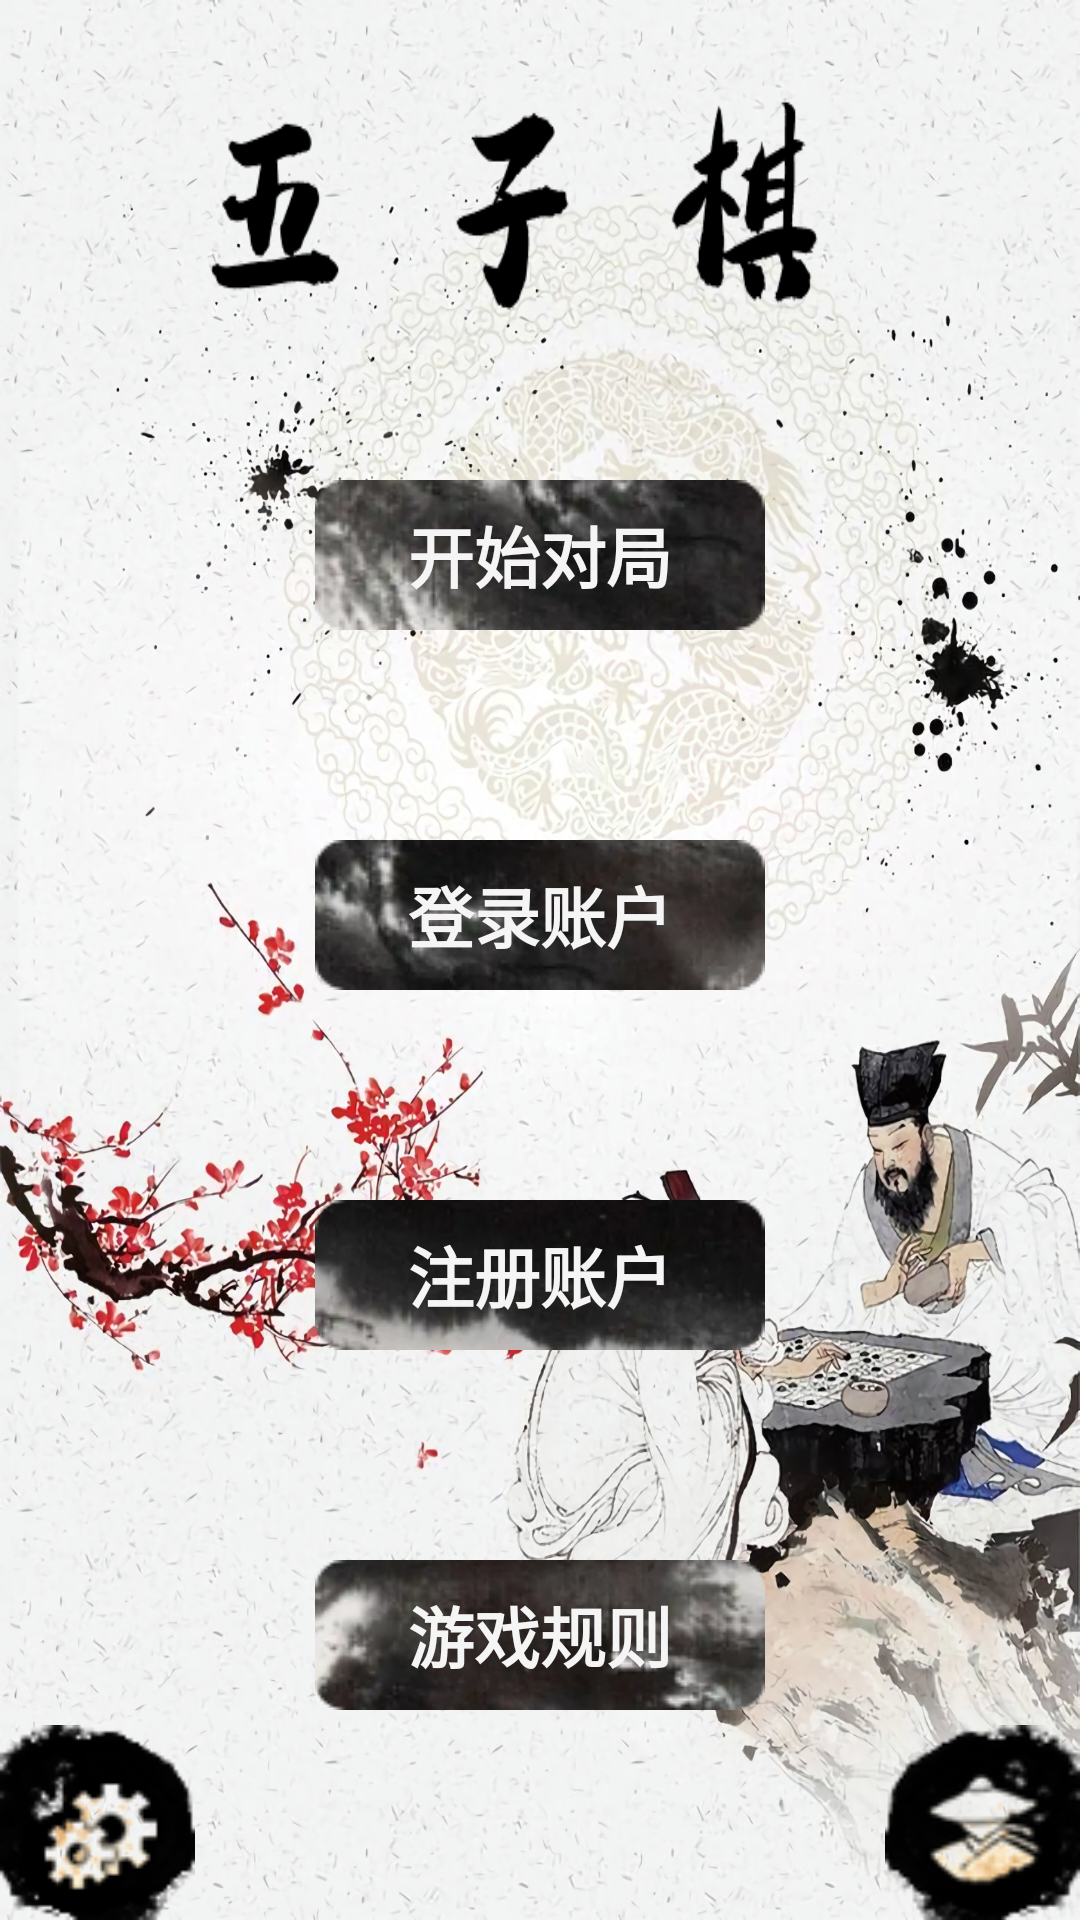

Named icons in this screenshot (1080 × 1920) and their bounding boxes, (x1, y1, x2, y2):
setting: (0, 1725, 195, 1920)
